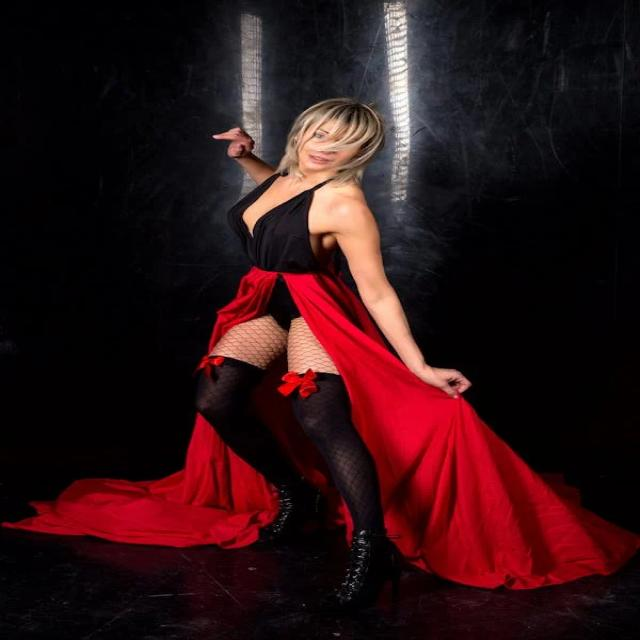Edited images: (101, 74, 568, 603)
